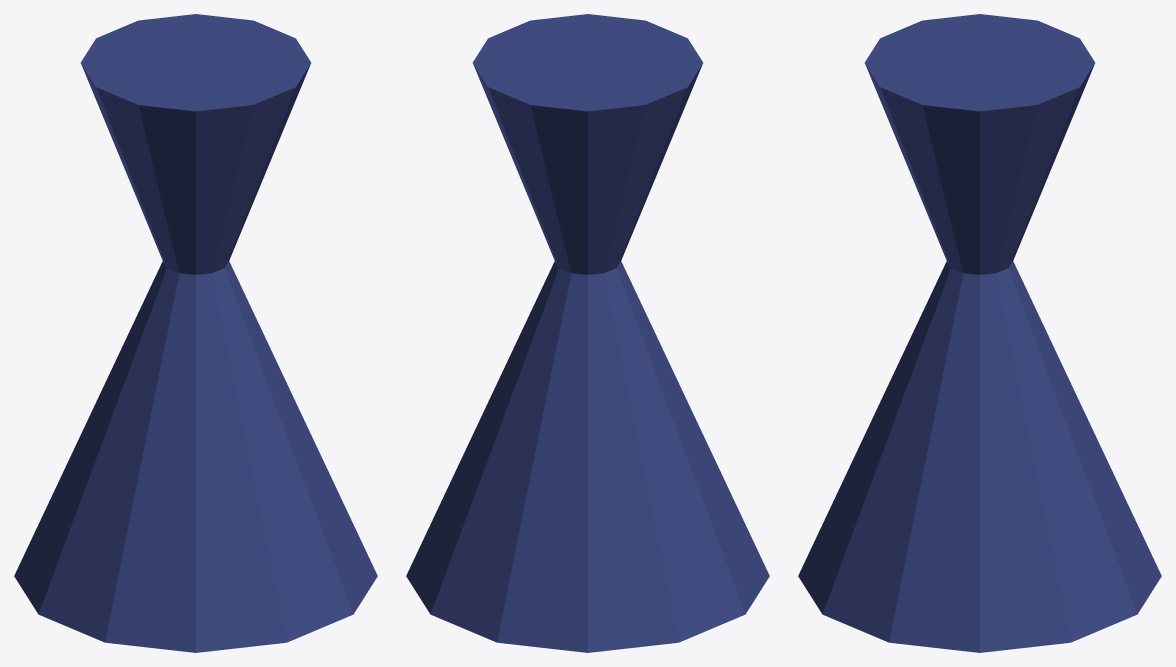
The model's file is Decoration_11.fbx.
3 renders of one model, left to right at view 1: azimuth 30°, elevation 25°; view 2: azimuth 150°, elevation 25°; view 3: azimuth 270°, elevation 25°, orthographic.
Parts seen in each view (by area): view 1: Decoration_11; view 2: Decoration_11; view 3: Decoration_11.
Part boxes in pixels (x1,y1,x2,y2): Decoration_11: (14, 14, 377, 652); Decoration_11: (406, 14, 769, 652); Decoration_11: (798, 14, 1161, 652).
Size of the model in its own units: 21.31 by 21.31 by 33.18.
